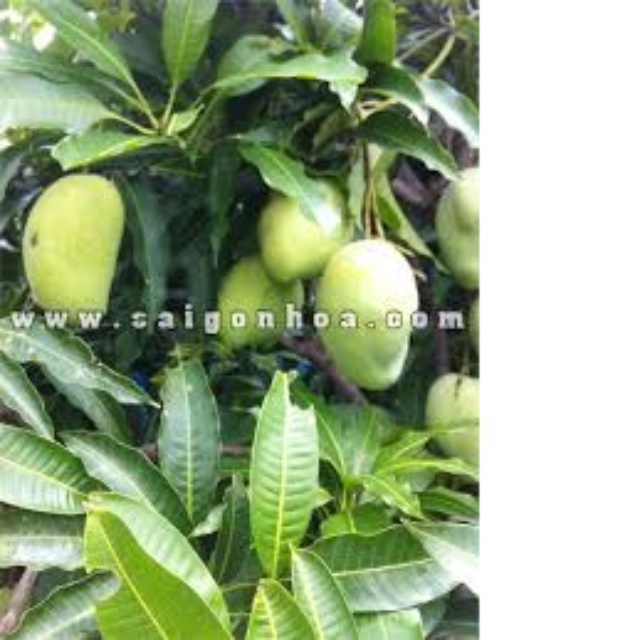thanh_long: (16, 164, 138, 317), (318, 236, 418, 393)
